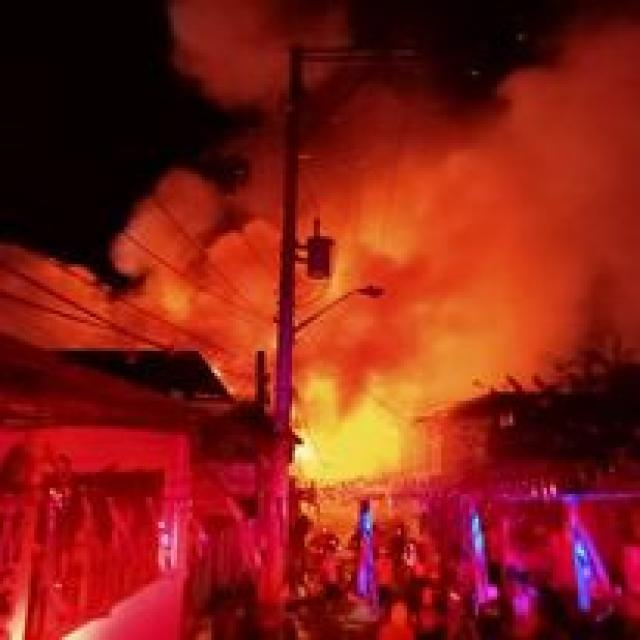Fire: (300, 377, 416, 478)
Smoke: (335, 74, 640, 407), (4, 195, 270, 370), (182, 1, 341, 120)
